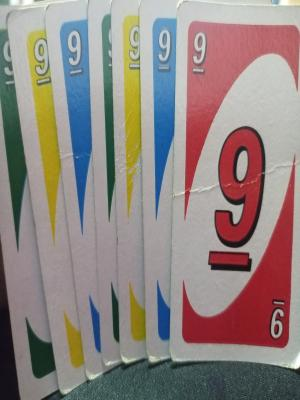num_9: (204, 121, 269, 278), (187, 21, 214, 86), (31, 28, 54, 94), (63, 20, 87, 83), (266, 287, 290, 348), (154, 22, 179, 78), (126, 18, 145, 76), (2, 35, 18, 88)
